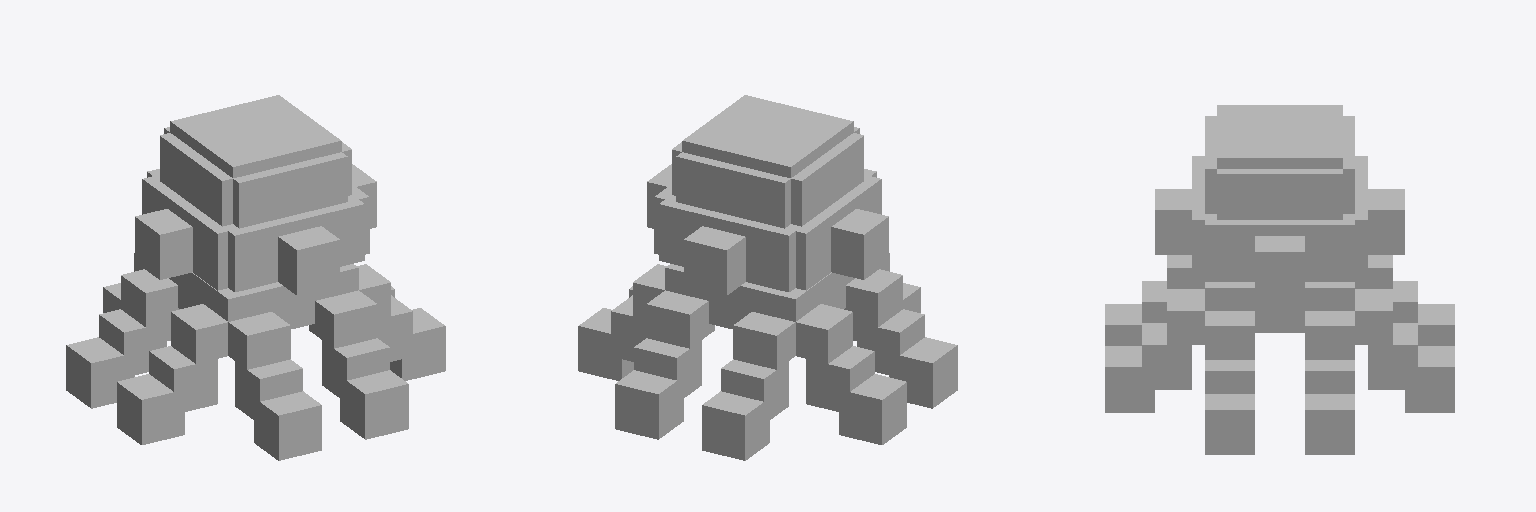
The model's file is Flying Liq.vox.obj.
The picture shows the model from 3 angles: view 1: azimuth 30°, elevation 25°; view 2: azimuth 150°, elevation 25°; view 3: azimuth 270°, elevation 25°; orthographic projection.
Parts seen in each view (by area): view 1: object 1; view 2: object 1; view 3: object 1.
Part boxes in pixels (x1,y1,x2,y2): object 1: (66,95,445,460); object 1: (578,95,957,460); object 1: (1105,105,1454,454).
Bounding box in the file's own units: 2.8 × 2.2 × 2.8.